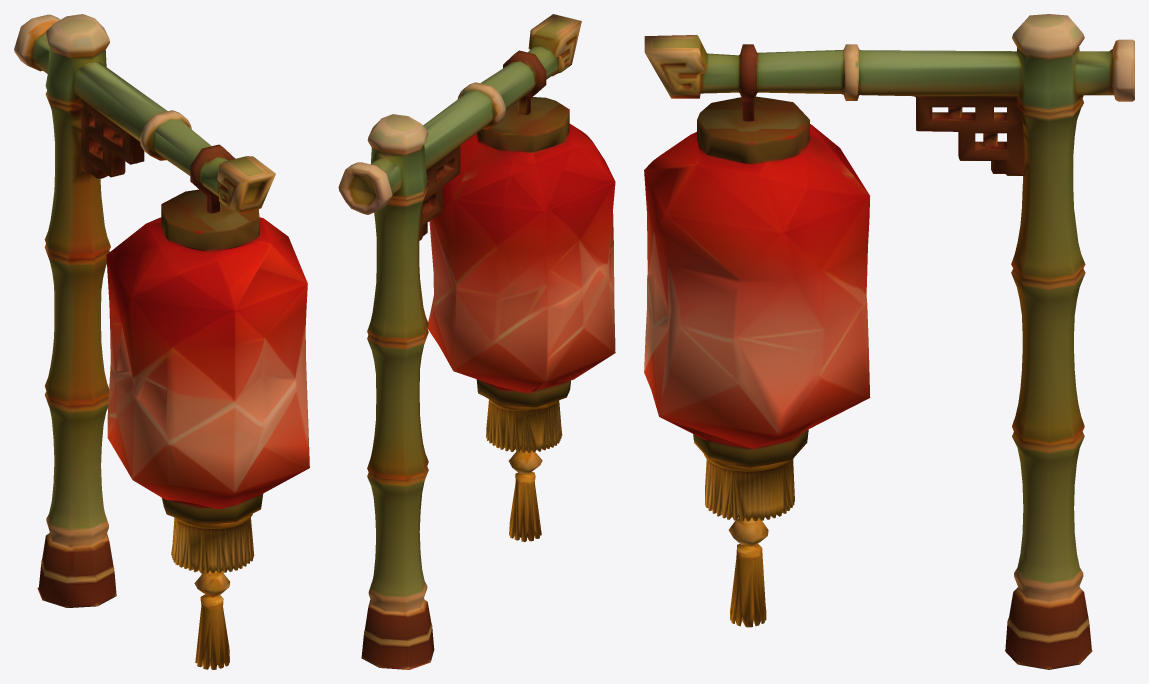
The model's file is lantern.glb.
The picture shows the model from 3 angles, left to right: view 1: azimuth 30°, elevation 25°; view 2: azimuth 150°, elevation 25°; view 3: azimuth 270°, elevation 25°; orthographic projection. The views are drawn at different scales.
Parts seen in each view (by area): view 1: material; view 2: material; view 3: material.
Part boxes in pixels (<box>): material: <box>14,14,309,669</box>; material: <box>338,14,615,669</box>; material: <box>644,14,1134,669</box>.
Size of the model in its own units: 0.6268 by 1.9 by 1.34.
Materials: 1 (1 with a texture image).
